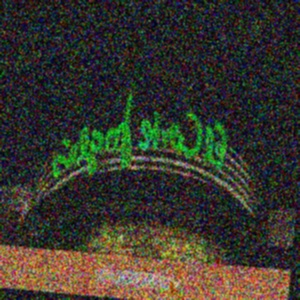corte_ingles: (205, 68, 258, 176)
